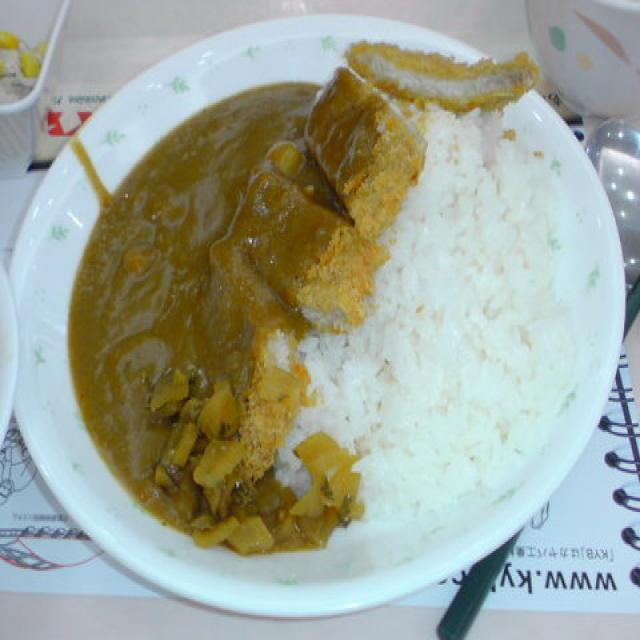猪肉菜式: (0, 12, 624, 618)
